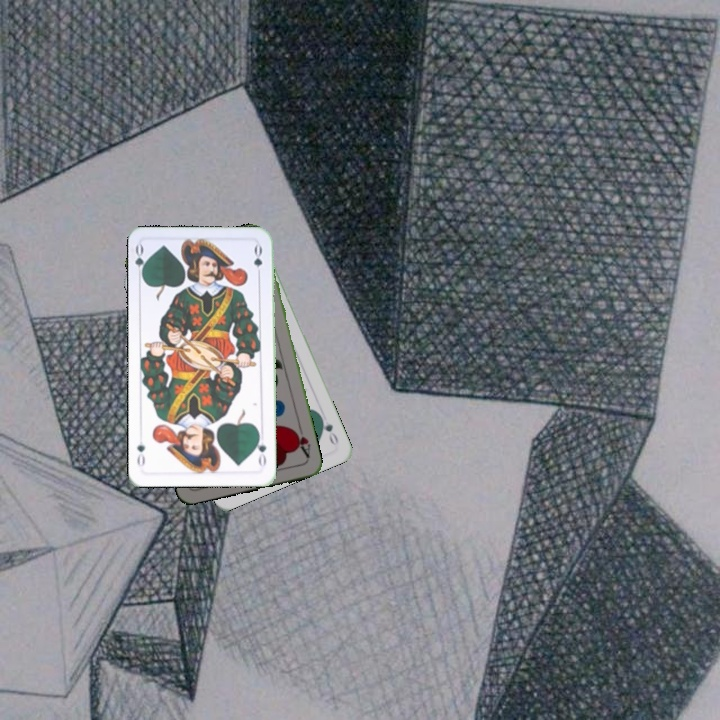GO: (316, 411, 341, 448), (131, 241, 151, 282), (252, 430, 269, 470)
HA: (290, 421, 313, 461)
